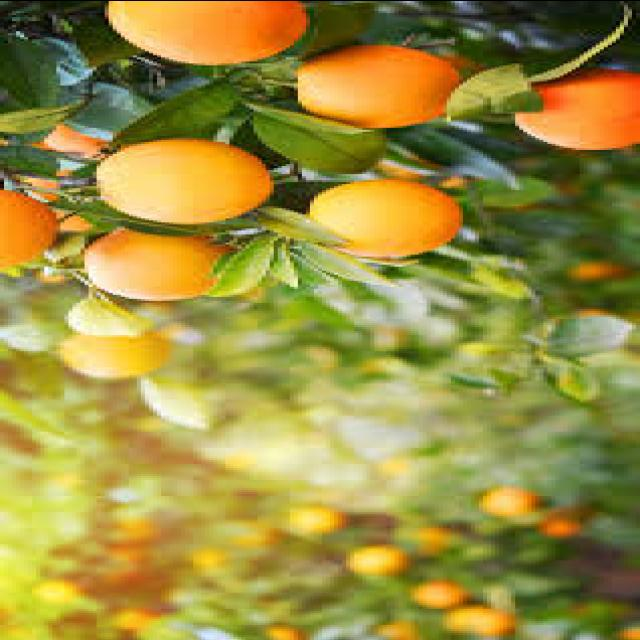orange: (91, 128, 269, 224)
